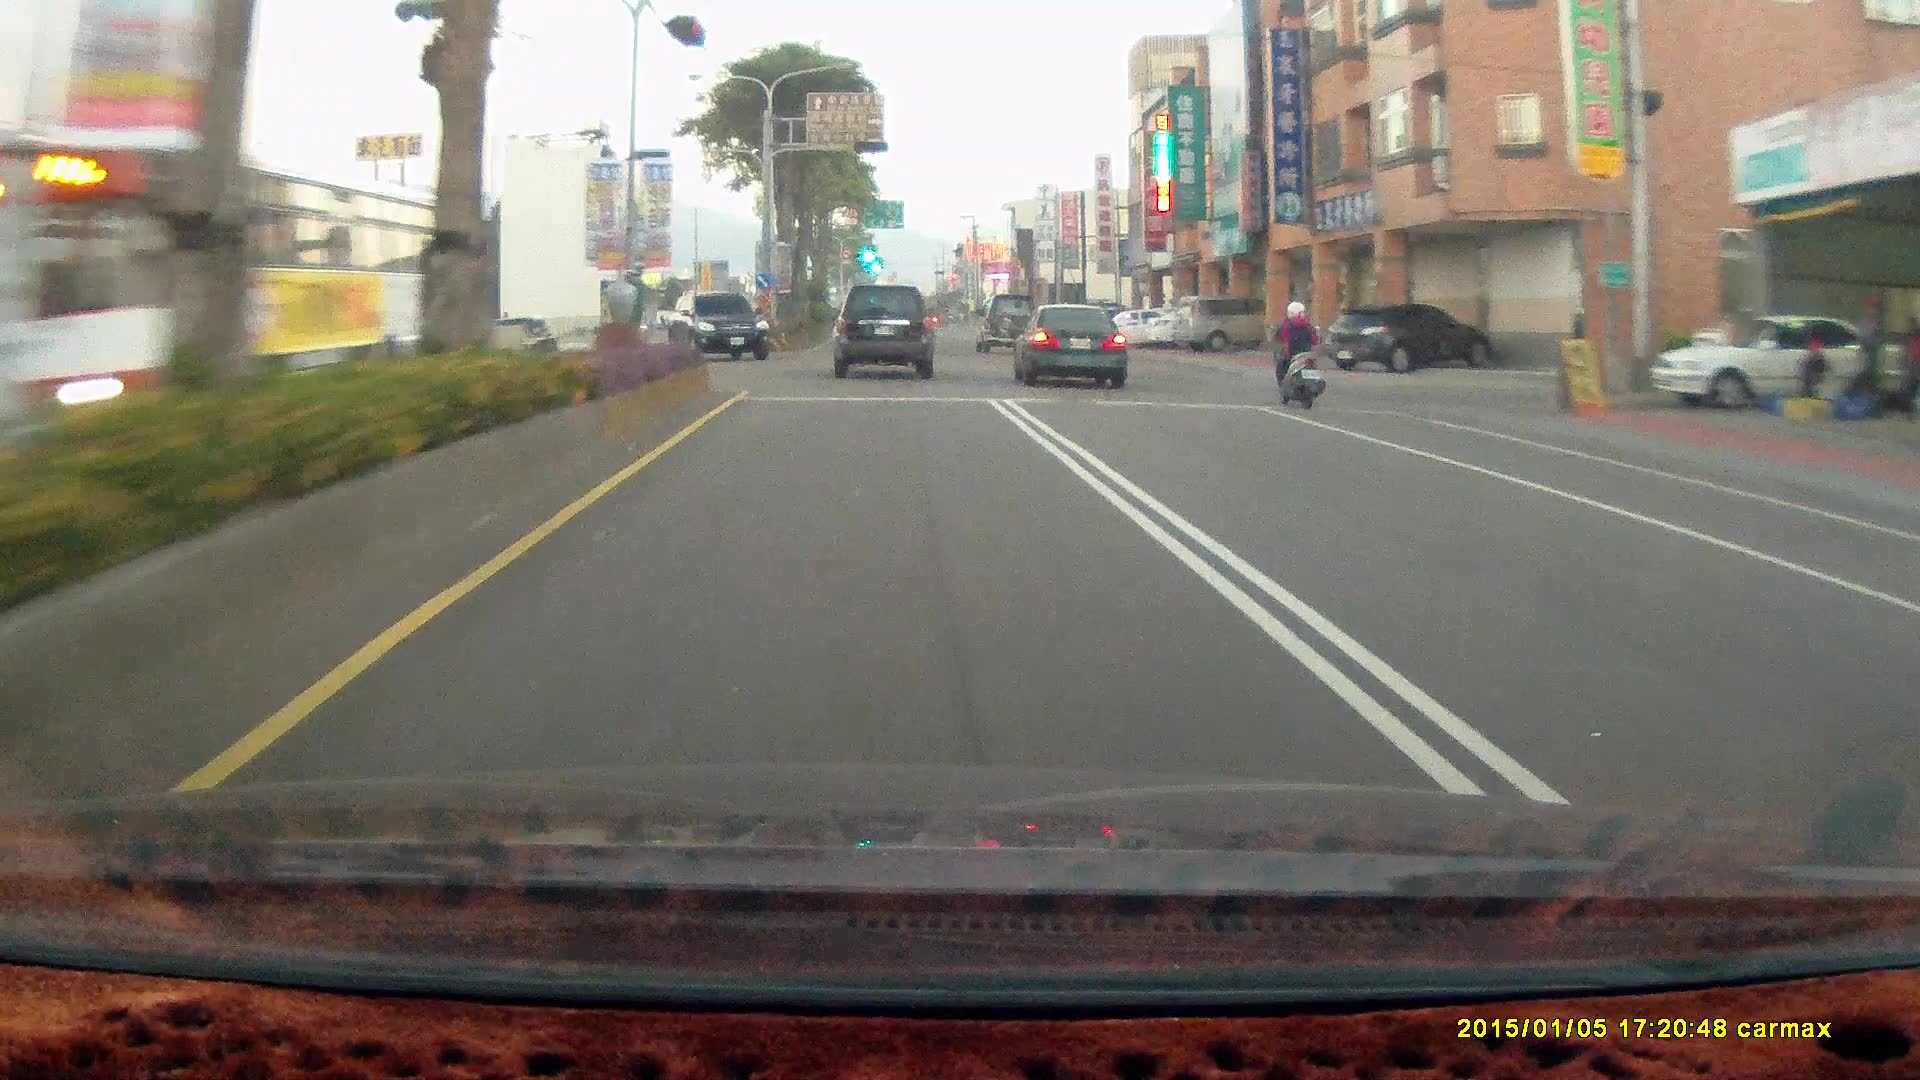pedestrian: (1856, 293, 1887, 414), (1796, 335, 1828, 408)
rider: (1257, 290, 1336, 418), (1267, 299, 1325, 408)
vehicle: (0, 124, 494, 452), (43, 132, 462, 419), (1648, 310, 1897, 408), (1653, 311, 1895, 410), (1320, 301, 1492, 371), (1323, 300, 1490, 369), (1011, 297, 1131, 387), (1008, 298, 1127, 384), (832, 281, 938, 376), (831, 281, 932, 376), (667, 289, 771, 363), (667, 288, 770, 358), (1172, 293, 1284, 351), (1173, 294, 1272, 356), (973, 288, 1040, 350), (1096, 304, 1181, 345)
